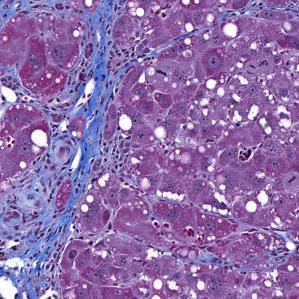fibrosis: (4, 166, 86, 284), (69, 25, 122, 162)
